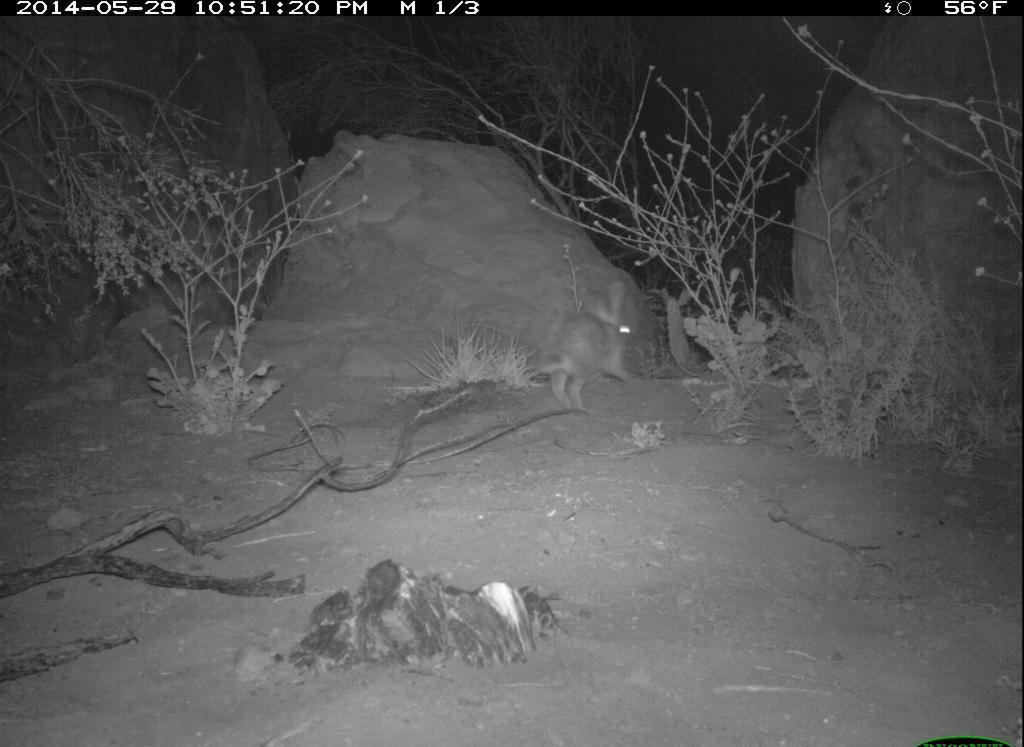rabbit: (520, 264, 657, 431)
